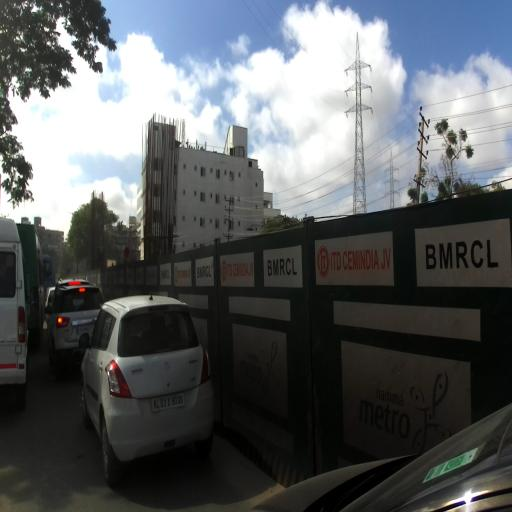street_light_0: (68, 211, 80, 219), (62, 244, 70, 249)
